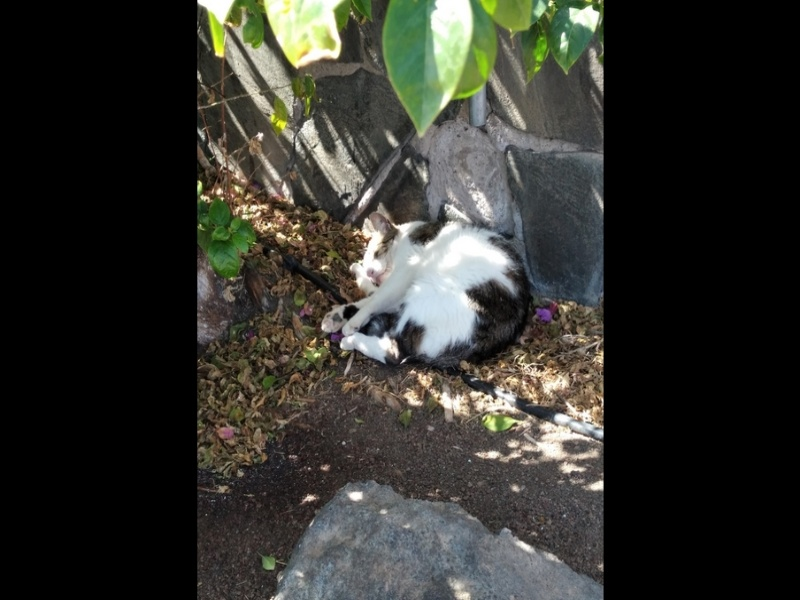cat: (318, 214, 531, 376)
